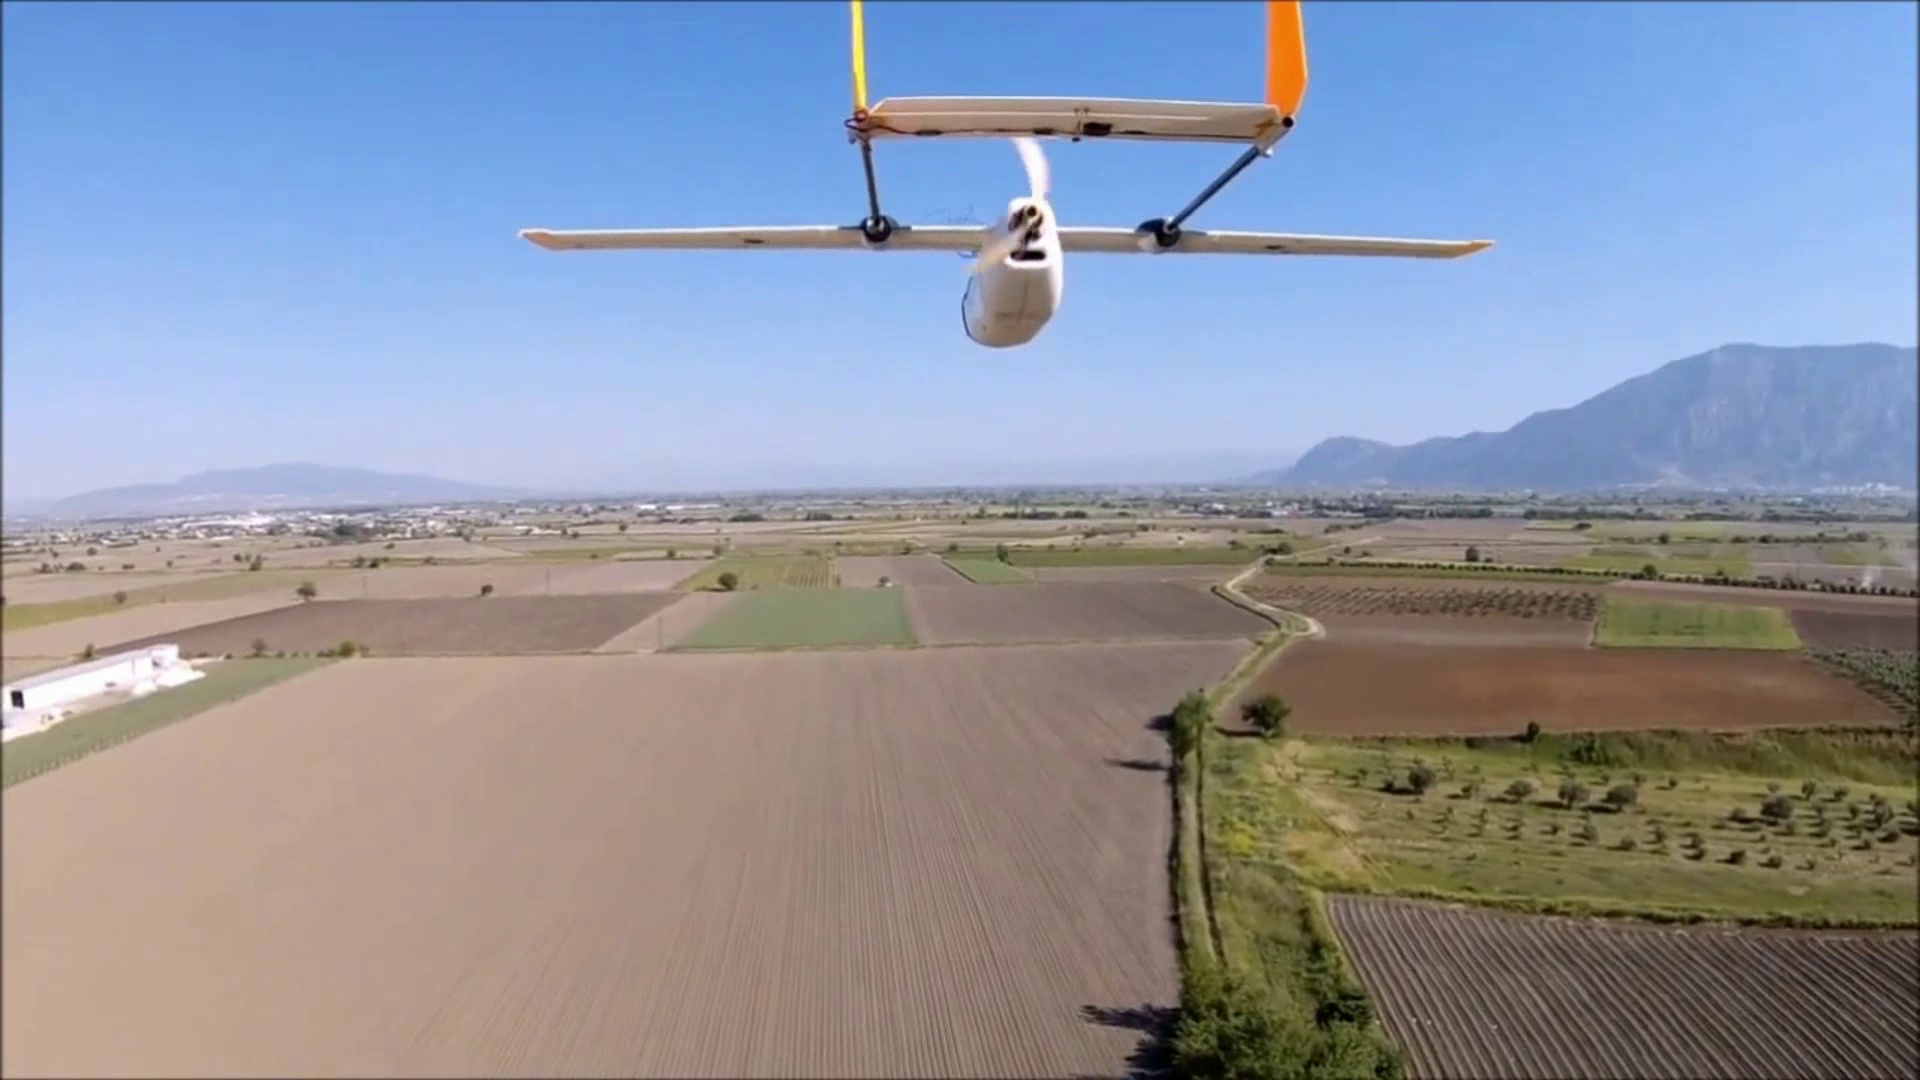airplane: (520, 5, 1495, 349)
